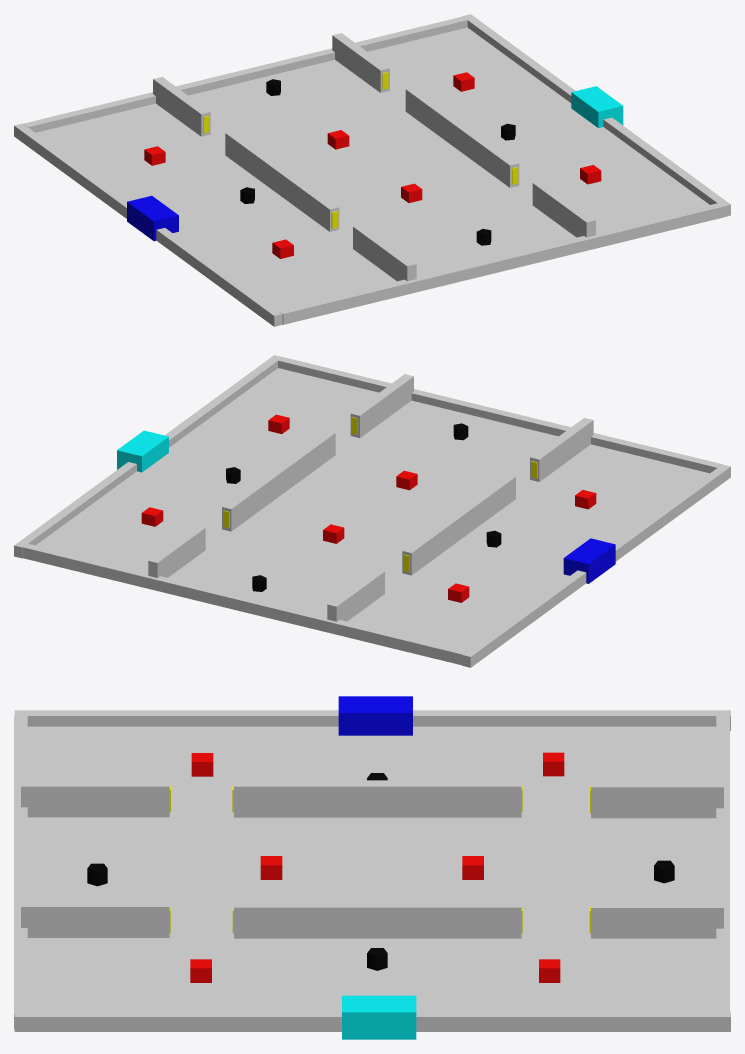
The model's file is Level2_b5.fbx.
3 renders of one model, top to bottom at view 1: azimuth 30°, elevation 25°; view 2: azimuth 150°, elevation 25°; view 3: azimuth 270°, elevation 25°, orthographic. The views are drawn at different scales.
Parts seen in each view (by area): view 1: Box057, Box061, Box060, Box062, Box063, Box074, Box070, Box072, Box084, Box071, Box066, Box058 (+1 smaller); view 2: Box057, Box060, Box061, Box062, Box063, Box070, Box074, Box072, Box084, Box066, Box071, Box058 (+1 smaller); view 3: Box057, Box063, Box070, Box074, Box062, Box084, Box072, Box071, Box066, Box061, Box060, Box059 (+1 smaller).
Part boxes in pixels (bbox=[...]): Box057: bbox=[36, 27, 709, 310]; Box061: bbox=[278, 202, 727, 324]; Box060: bbox=[23, 15, 471, 132]; Box062: bbox=[14, 123, 282, 326]; Box063: bbox=[462, 14, 730, 216]; Box074: bbox=[405, 87, 519, 187]; Box070: bbox=[225, 131, 339, 231]; Box072: bbox=[532, 180, 595, 237]; Box084: bbox=[353, 224, 416, 281]; Box071: bbox=[332, 33, 389, 92]; Box066: bbox=[153, 76, 210, 136]; Box058: bbox=[127, 195, 178, 241]; Box057: bbox=[36, 368, 709, 650]; Box060: bbox=[19, 542, 466, 665]; Box061: bbox=[274, 356, 722, 473]; Box062: bbox=[462, 464, 730, 667]; Box063: bbox=[14, 355, 281, 558]; Box070: bbox=[402, 474, 515, 575]; Box074: bbox=[222, 430, 335, 531]; Box072: bbox=[350, 374, 413, 438]; Box084: bbox=[530, 418, 593, 481]; Box066: bbox=[327, 569, 384, 621]; Box071: bbox=[148, 525, 205, 577]; Box058: bbox=[563, 538, 615, 583]; Box057: bbox=[27, 726, 716, 1011]; Box063: bbox=[14, 1011, 730, 1031]; Box070: bbox=[234, 780, 521, 817]; Box074: bbox=[234, 901, 521, 938]; Box062: bbox=[14, 710, 730, 730]; Box084: bbox=[21, 780, 169, 817]; Box072: bbox=[21, 901, 169, 937]; Box071: bbox=[591, 901, 723, 938]; Box066: bbox=[591, 781, 723, 818]; Box061: bbox=[14, 716, 27, 1029]; Box060: bbox=[716, 716, 729, 1014]; Box059: bbox=[342, 995, 416, 1039].
Size of the model in its own units: 604 by 32.3 by 579.
